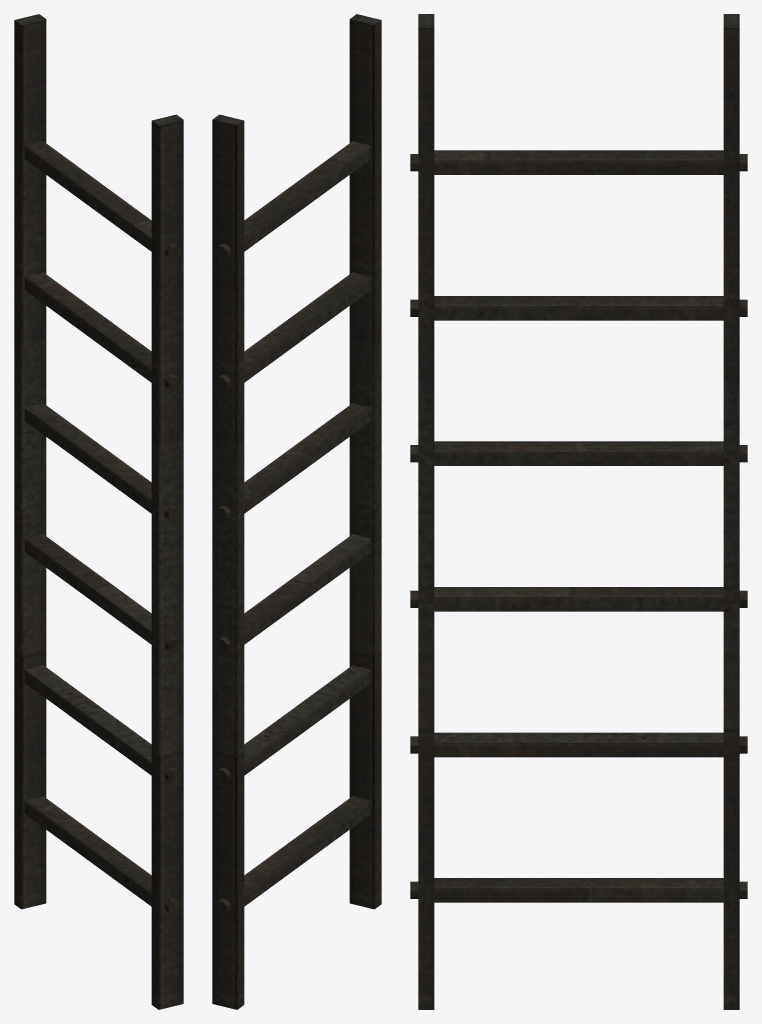
Rendered from ladder_hr_1_short.dae.
3 views of the same model, side by side, from view 1: azimuth 30°, elevation 25°; view 2: azimuth 150°, elevation 25°; view 3: azimuth 270°, elevation 25° (orthographic). The views are drawn at different scales.
Parts seen in each view (by area): view 1: ladder_hr_1_short; view 2: ladder_hr_1_short; view 3: ladder_hr_1_short.
Boxes of the visible parts, x1,y1,x2,y2 form: ladder_hr_1_short: (14,14,183,1009); ladder_hr_1_short: (212,14,381,1009); ladder_hr_1_short: (410,14,747,1009).
Size of the model in its own units: 0.08 by 0.84 by 2.7.
Materials: 1 (1 with a texture image).
